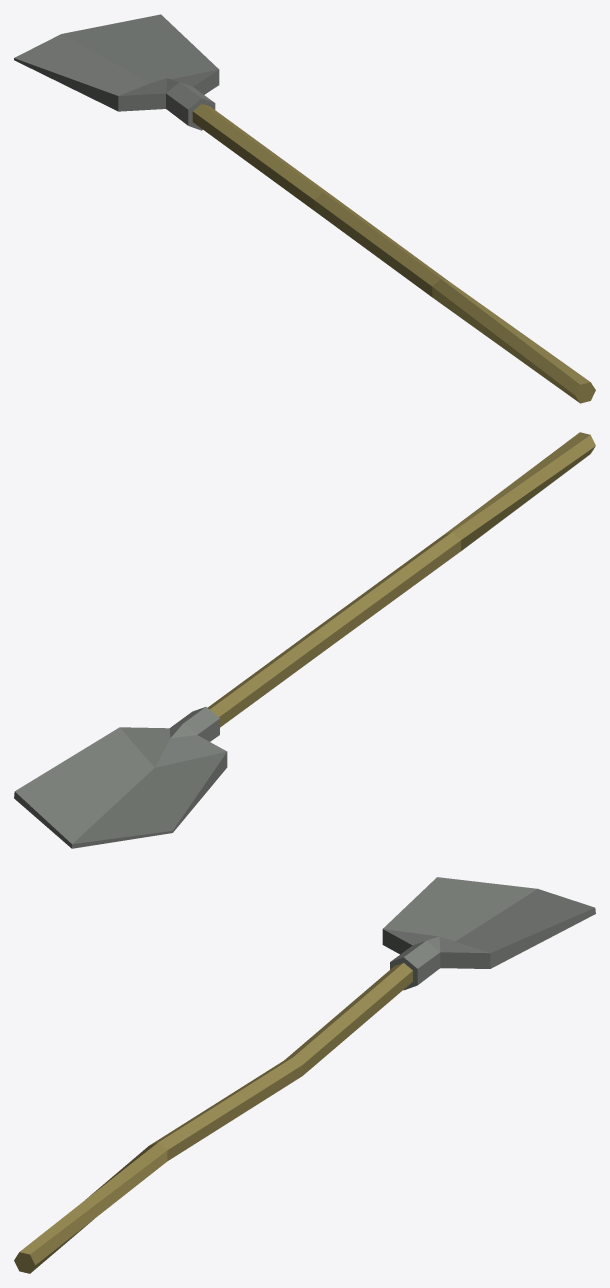
The model's file is gardentool03.fbx.
3 views of the same model, one above another, from view 1: azimuth 30°, elevation 25°; view 2: azimuth 150°, elevation 25°; view 3: azimuth 330°, elevation 25° (orthographic). The views are drawn at different scales.
Parts seen in each view (by area): view 1: Cylinder.004; view 2: Cylinder.004; view 3: Cylinder.004.
Part boxes in pixels (<box>): Cylinder.004: <box>14,14,595,403</box>; Cylinder.004: <box>14,432,595,848</box>; Cylinder.004: <box>14,877,595,1273</box>.
Size of the model in its own units: 0.1713 by 0.0412 by 1.01.
